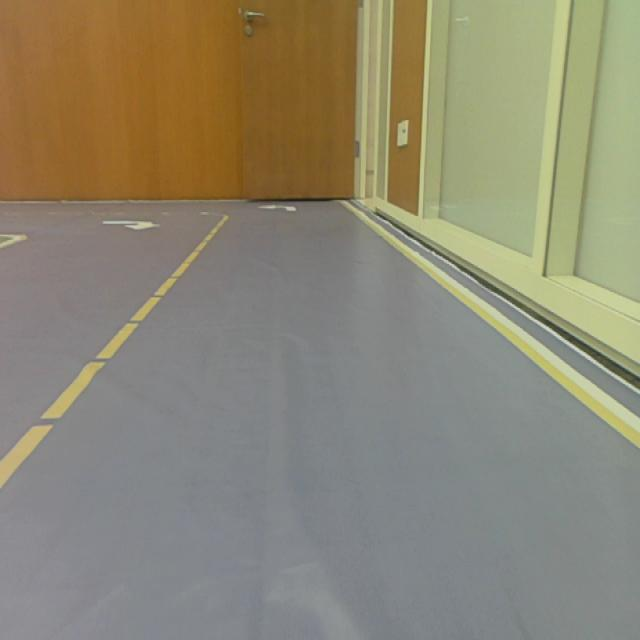left_lane: (0, 219, 226, 490)
right_lane: (346, 204, 640, 448)
